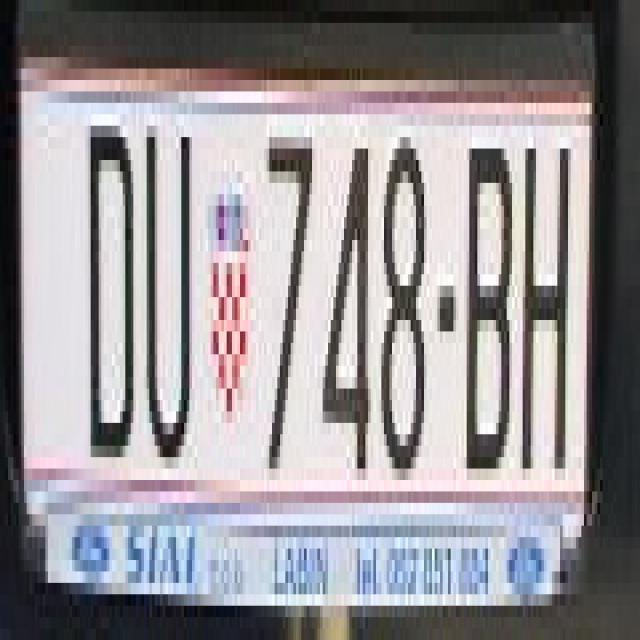4: (322, 114, 370, 446)
7: (264, 114, 312, 480)
8: (381, 114, 424, 469)
B: (461, 126, 512, 480)
D: (88, 126, 133, 446)
H: (522, 126, 570, 480)
U: (146, 114, 194, 457)
